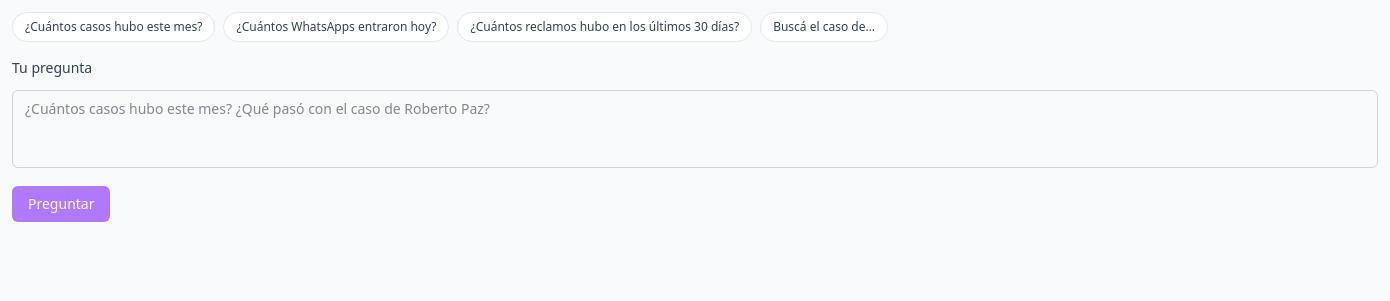
Scenario: CajaDelAsistente › un 429 muestra el aviso de demasiadas preguntas
Click the button "¿Cuántos casos hubo este mes?" at [114, 27], box [12,12,216,42]
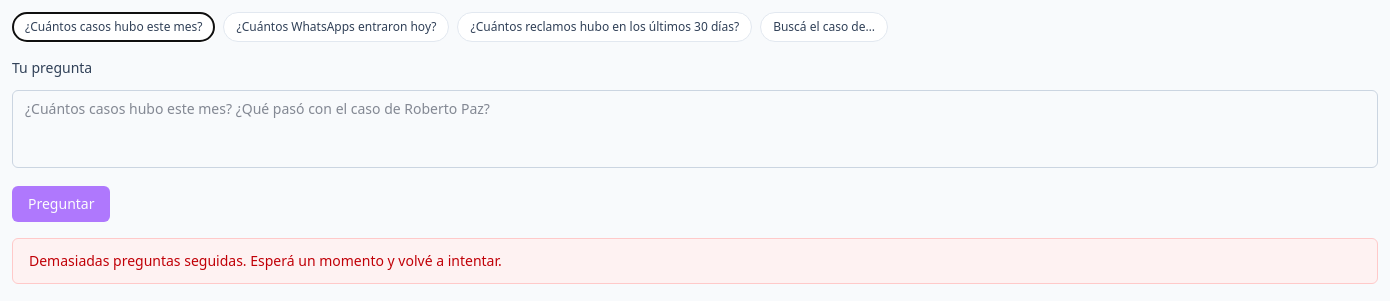
Expected: the message reads "Demasiadas preguntas seguidas. Esperá un momento y volvé a intentar.", [29,251,502,270]
